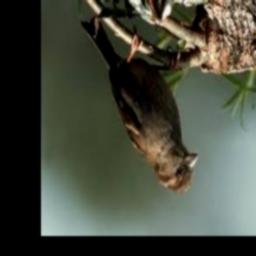Sparrow: (81, 16, 198, 196)
